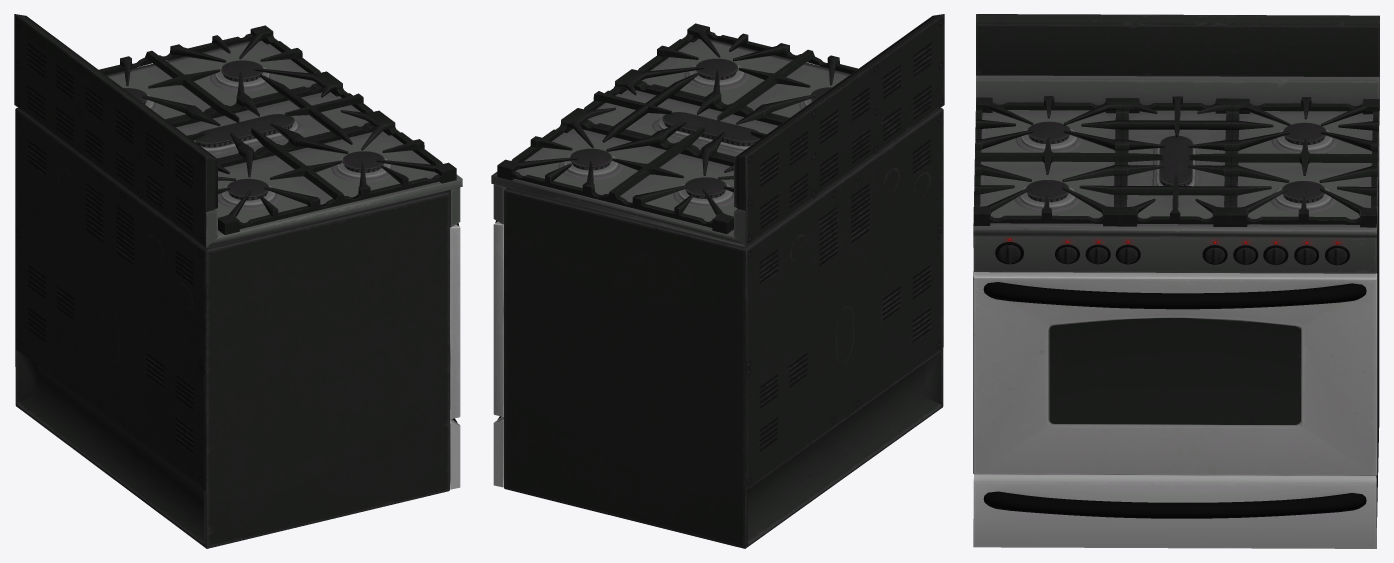
File: Oven.fbx
The picture shows the model from 3 angles, left to right: view 1: azimuth 30°, elevation 25°; view 2: azimuth 150°, elevation 25°; view 3: azimuth 270°, elevation 25°; orthographic projection. The views are drawn at different scales.
Parts seen in each view (by area): view 1: node_id30; view 2: node_id30; view 3: node_id30.
Part boxes in pixels (left/top/right/bottom): node_id30: left=14, top=14, right=462, bottom=548; node_id30: left=491, top=14, right=944, bottom=548; node_id30: left=973, top=14, right=1379, bottom=548.
Size of the model in its own units: 258 by 339 by 308.
1 material, 1 textured.
